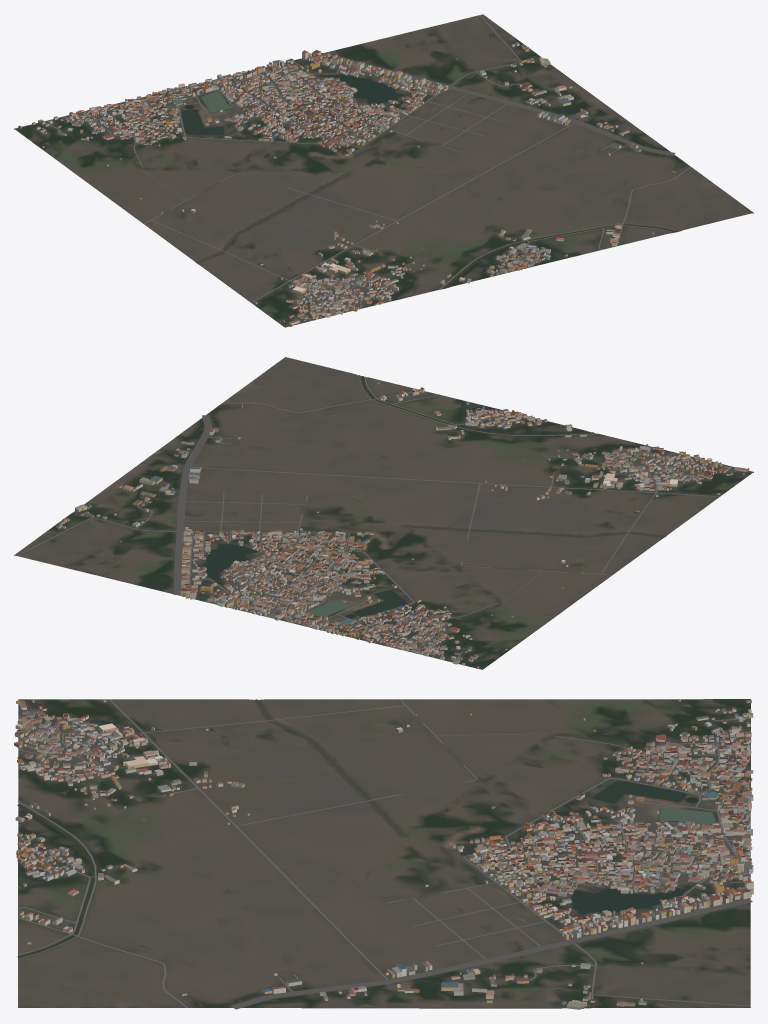
3 views of the same model, one above another, from view 1: azimuth 30°, elevation 25°; view 2: azimuth 150°, elevation 25°; view 3: azimuth 270°, elevation 25° (orthographic). The views are drawn at different scales.
Visible parts, largest first — view 1: ground, buildings, roads, water; view 2: ground, buildings, roads, water; view 3: ground, buildings, roads, water.
Part boxes in pixels (x1=…): ground: x1=14, y1=14, x2=753, y2=327; buildings: x1=18, y1=42, x2=675, y2=326; roads: x1=45, y1=15, x2=691, y2=320; water: x1=181, y1=72, x2=676, y2=288; ground: x1=14, y1=357, x2=753, y2=669; buildings: x1=56, y1=382, x2=749, y2=668; roads: x1=16, y1=375, x2=727, y2=662; water: x1=111, y1=376, x2=665, y2=618; ground: x1=18, y1=699, x2=750, y2=1008; buildings: x1=14, y1=699, x2=753, y2=1009; roads: x1=17, y1=699, x2=752, y2=1009; water: x1=17, y1=699, x2=715, y2=990.
Size of the model in its own units: 1408 by 23.38 by 1416.
